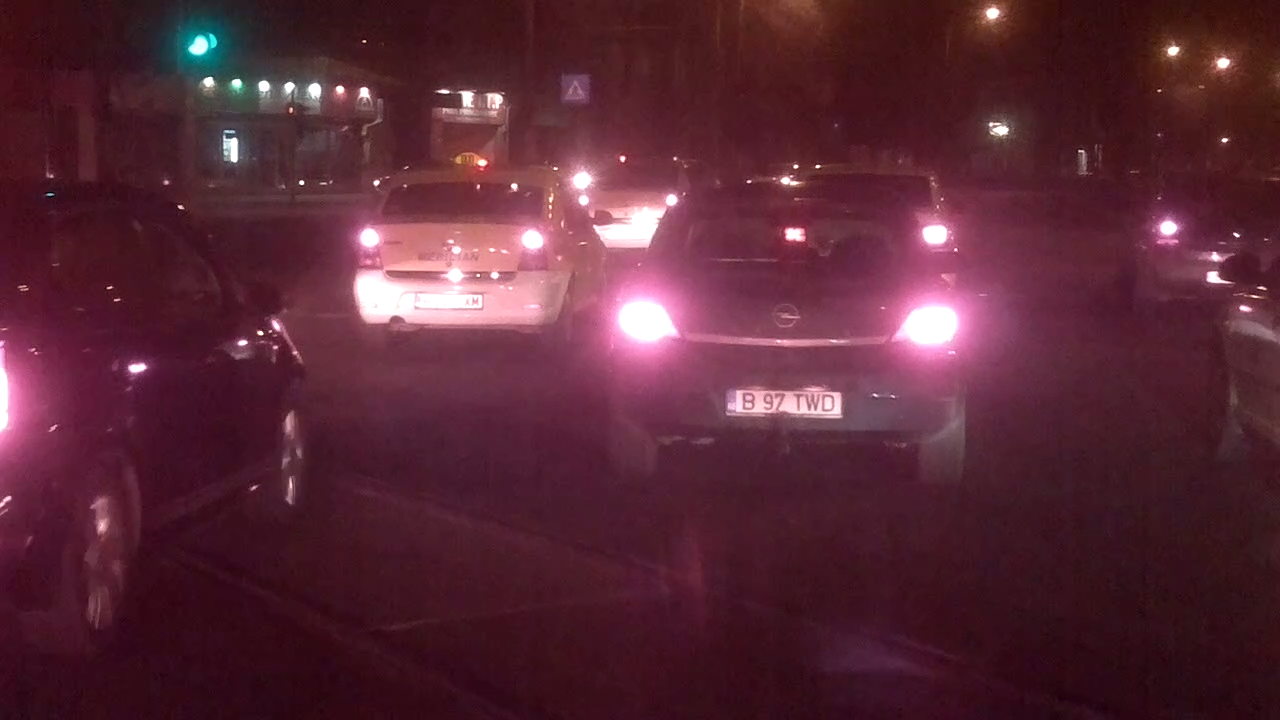license-plate: (720, 385, 848, 421)
